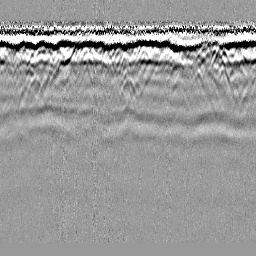cavity: (119, 73, 136, 101)
